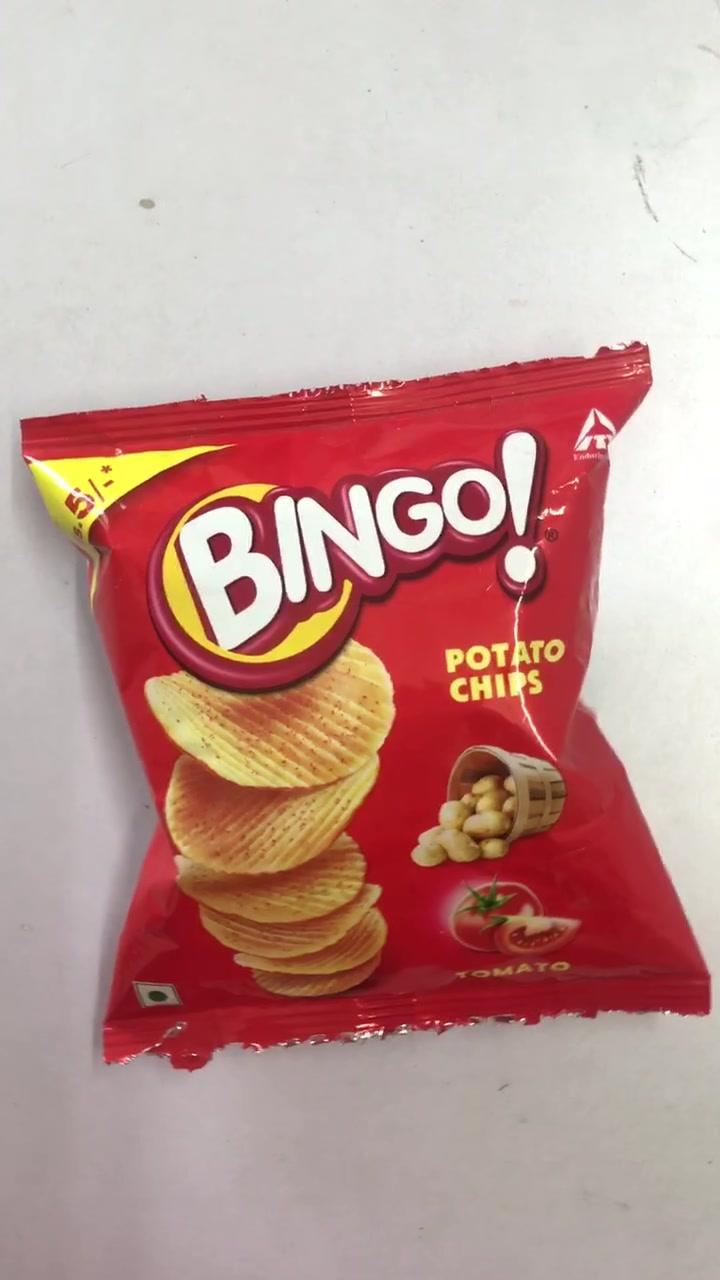Bingo: (31, 385, 720, 1028)
